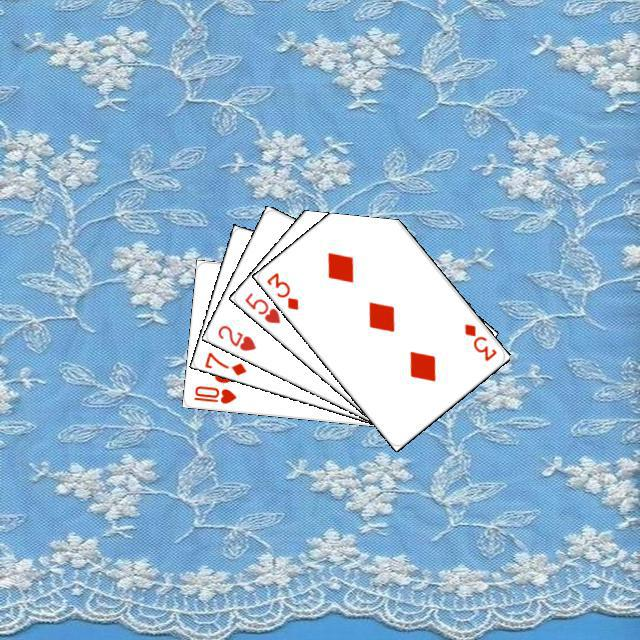10h: (189, 381, 238, 405)
2h: (213, 320, 257, 353)
3d: (459, 319, 499, 363), (261, 267, 300, 312)
5h: (240, 287, 282, 325)
7d: (200, 347, 248, 377)
